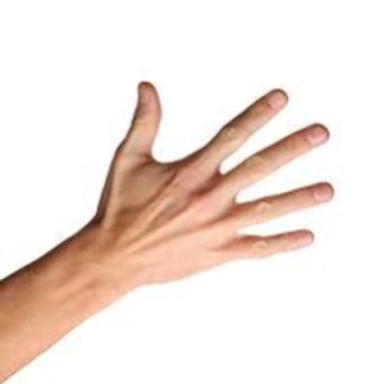normal skin: (0, 83, 333, 381)
